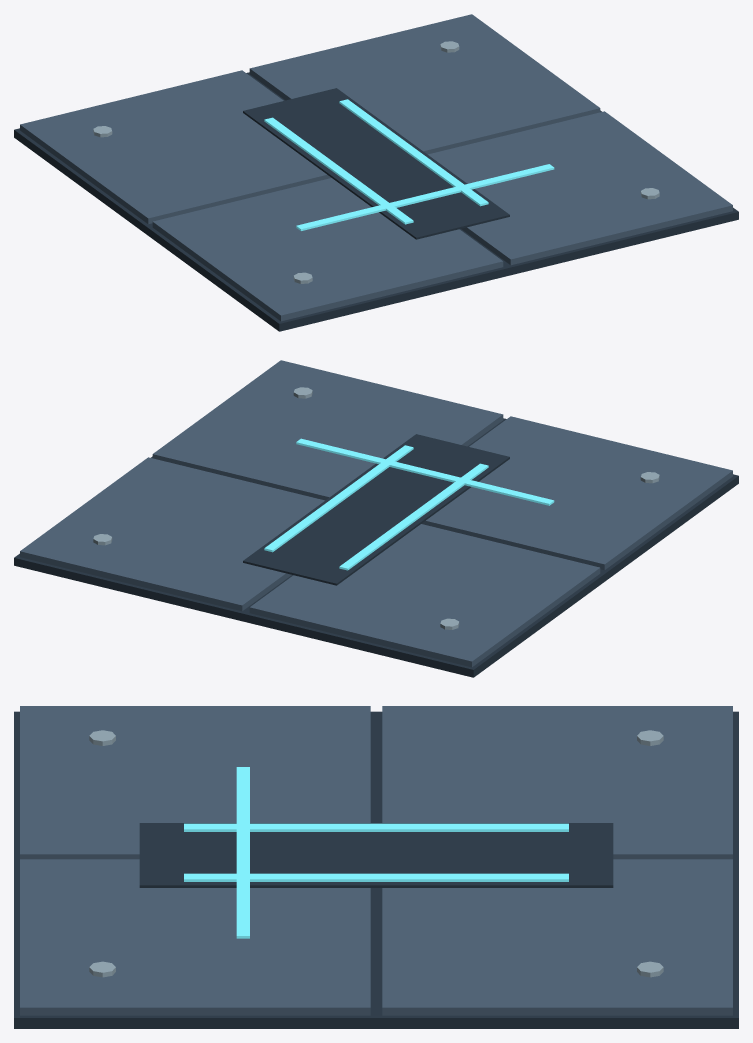
File: core_floor_variant.glb
3 renders of one model, top to bottom at view 1: azimuth 30°, elevation 25°; view 2: azimuth 150°, elevation 25°; view 3: azimuth 270°, elevation 25°, orthographic. The views are drawn at different scales.
Parts seen in each view (by area): view 1: core_floor_variant; view 2: core_floor_variant; view 3: core_floor_variant.
Boxes of the visible parts, x1,y1,x2,y2 form: core_floor_variant: (14,14,738,331); core_floor_variant: (14,360,738,677); core_floor_variant: (14,706,738,1028).
Bounding box in the file's own units: 1.96 × 0.072 × 1.96.
